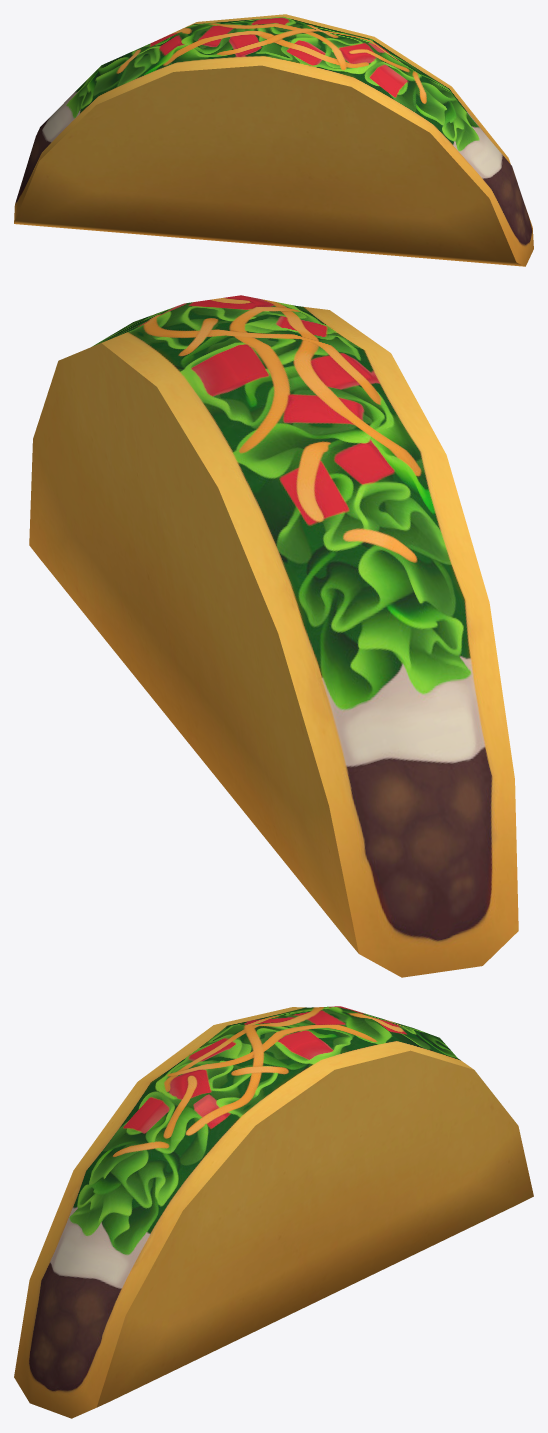
File: Taco.fbx
3 renders of one model, top to bottom at view 1: azimuth 30°, elevation 25°; view 2: azimuth 150°, elevation 25°; view 3: azimuth 270°, elevation 25°, orthographic. The views are drawn at different scales.
Visible parts, largest first — view 1: Taco_1; view 2: Taco_1; view 3: Taco_1.
Boxes of the visible parts, x1,y1,x2,y2 form: Taco_1: (14, 14, 533, 266); Taco_1: (29, 295, 518, 977); Taco_1: (14, 1006, 533, 1418).
Bounding box in the file's own units: 49.54 × 25.94 × 45.01.
